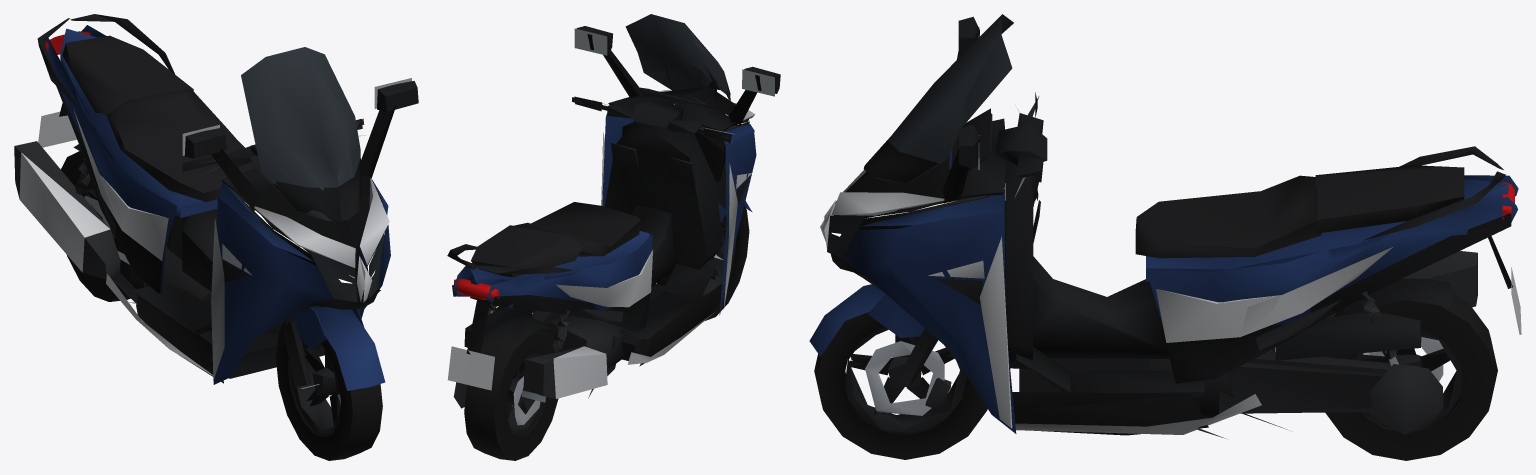
The model's file is bike14_forza.glb.
3 renders of one model, left to right at view 1: azimuth 30°, elevation 25°; view 2: azimuth 150°, elevation 25°; view 3: azimuth 270°, elevation 25°, orthographic. The views are drawn at different scales.
Parts seen in each view (by area): view 1: body, wheel_front, wheel_rear; view 2: body, wheel_rear, wheel_front, brake_light; view 3: body, wheel_front, wheel_rear.
Part boxes in pixels (box(x1,y1,x2,y2)): body: box(14, 14, 418, 390); wheel_front: box(275, 321, 382, 460); wheel_rear: box(61, 151, 143, 301); body: box(447, 14, 780, 408); wheel_rear: box(464, 328, 558, 460); wheel_front: box(657, 205, 749, 320); brake_light: box(454, 279, 499, 299); body: box(809, 14, 1521, 438); wheel_front: box(814, 312, 987, 459); wheel_rear: box(1322, 294, 1497, 460).
Size of the model in its own units: 0.921 by 1.42 by 2.15.
